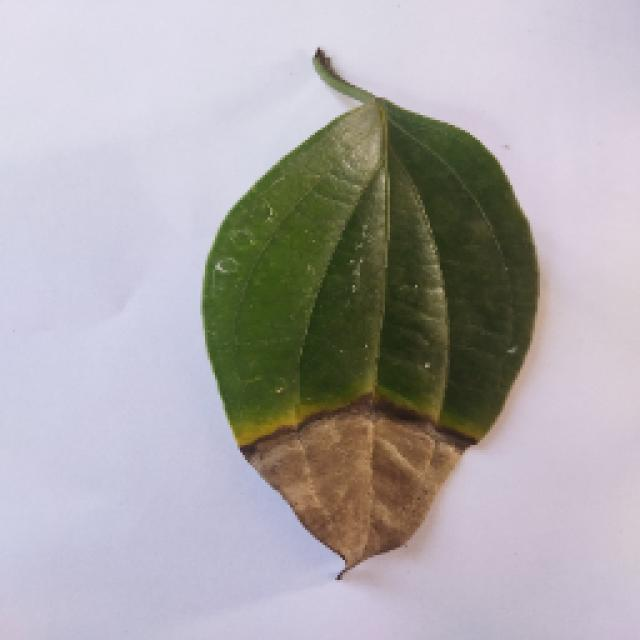footrot: (168, 58, 562, 600)
